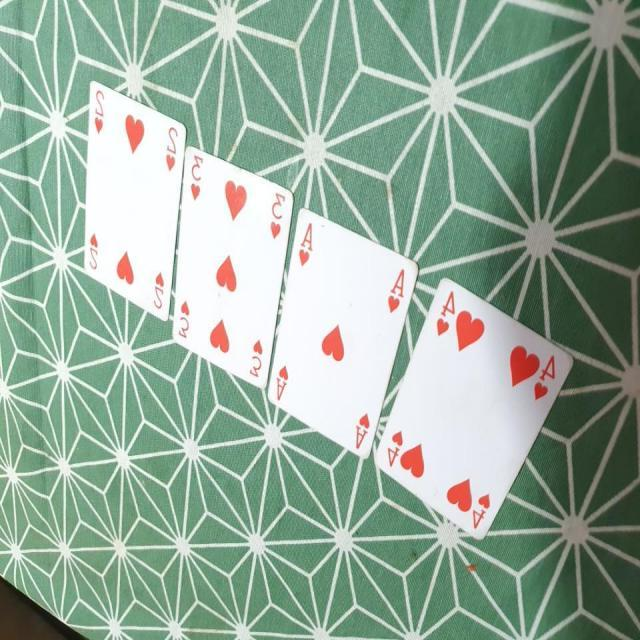2 of hearts: (72, 74, 186, 326)
3 of hearts: (170, 146, 302, 392)
4 of hearts: (374, 270, 578, 540)
ace of hearts: (268, 202, 420, 462)
